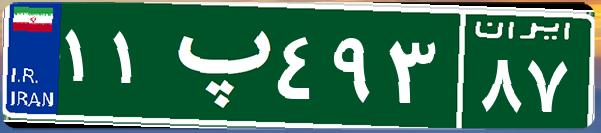1: (57, 26, 110, 107), (110, 28, 158, 105)
3: (385, 28, 445, 110)
4: (273, 28, 330, 110)
7: (525, 38, 570, 115)
8: (475, 38, 525, 113)
9: (330, 28, 385, 110)
پ: (158, 15, 273, 115)
